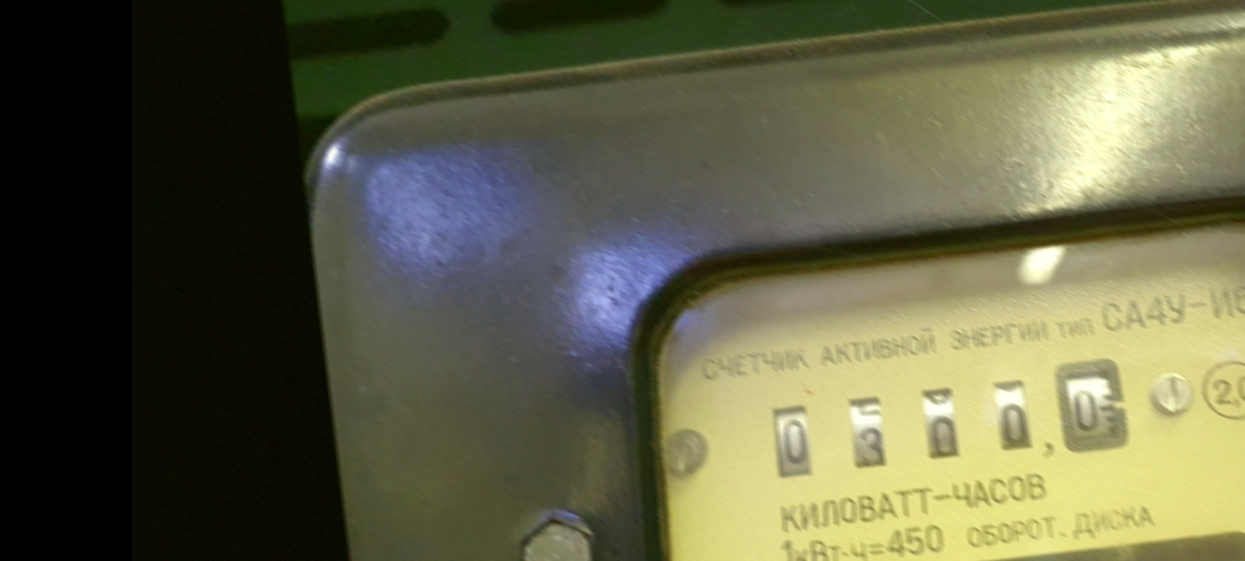0: (779, 414, 811, 469), (1069, 386, 1102, 437), (996, 401, 1030, 450), (927, 411, 959, 462)
3: (855, 423, 888, 469)
screen: (749, 350, 1140, 500)
